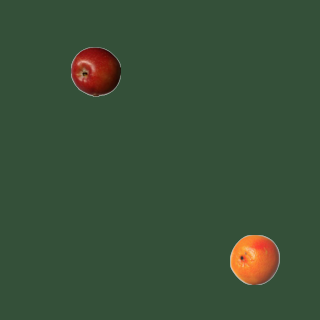Apple Braeburn: (70, 46, 120, 96)
Grapefruit Pink: (229, 234, 279, 284)
